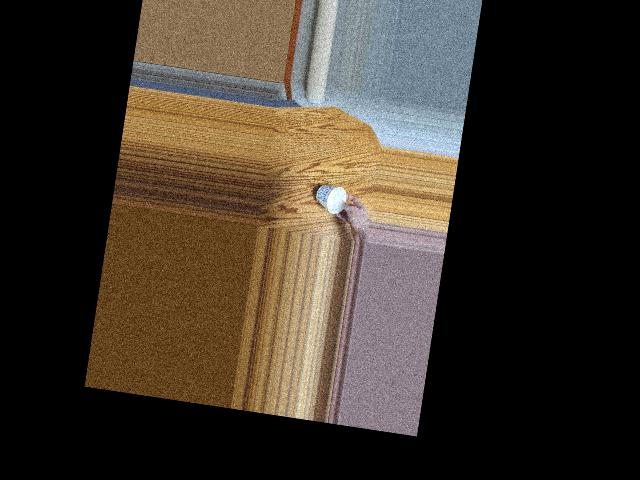cotage: (311, 183, 348, 210)
